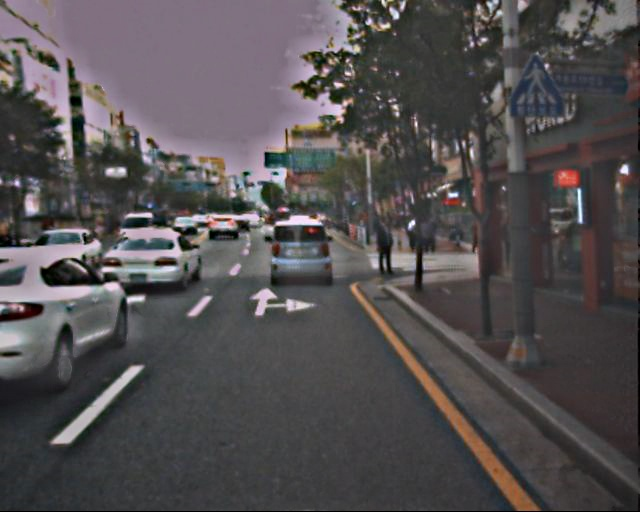person: (372, 218, 396, 276), (407, 217, 440, 253)
